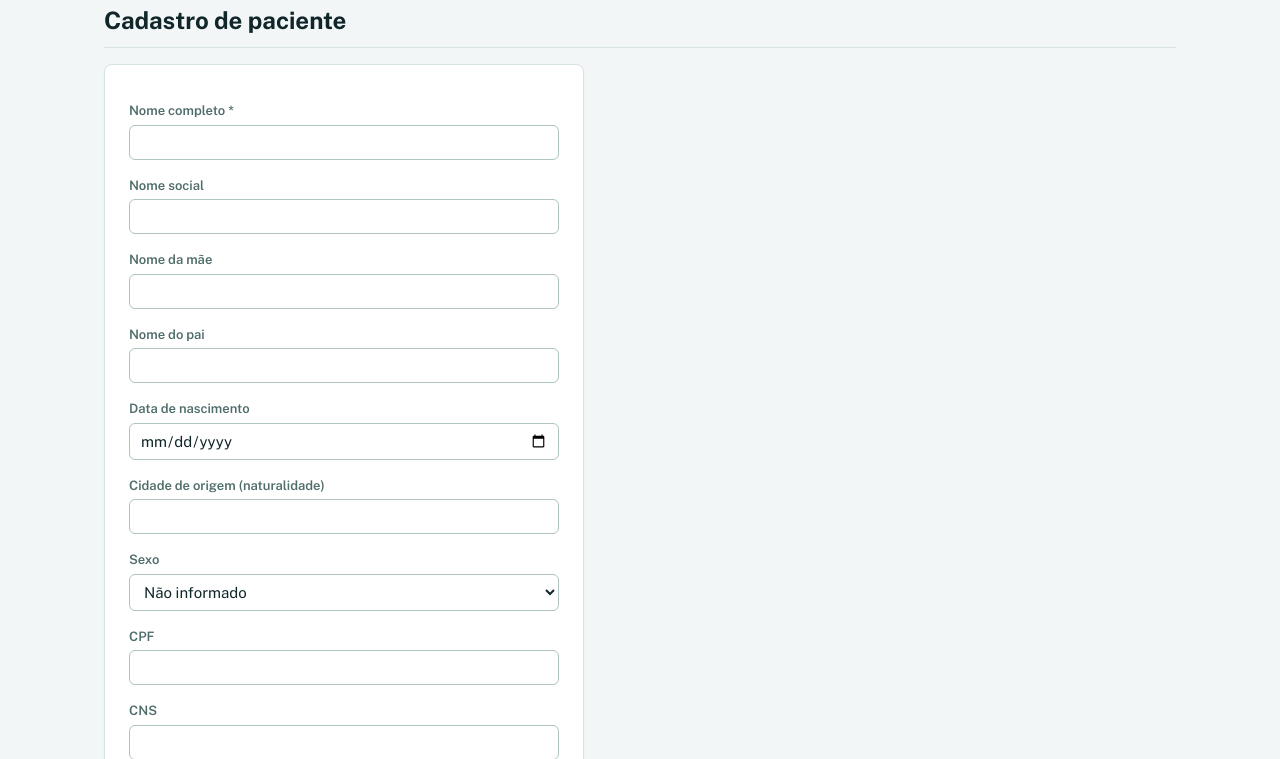
Test: PatientRegisterPage › 5. exibe erro de CPF inválido retornado pela API
Type "Maria Souza" into the field labelled "Nome completo *" at x=344, y=142, box [129,124,559,160]
(page scrolled)
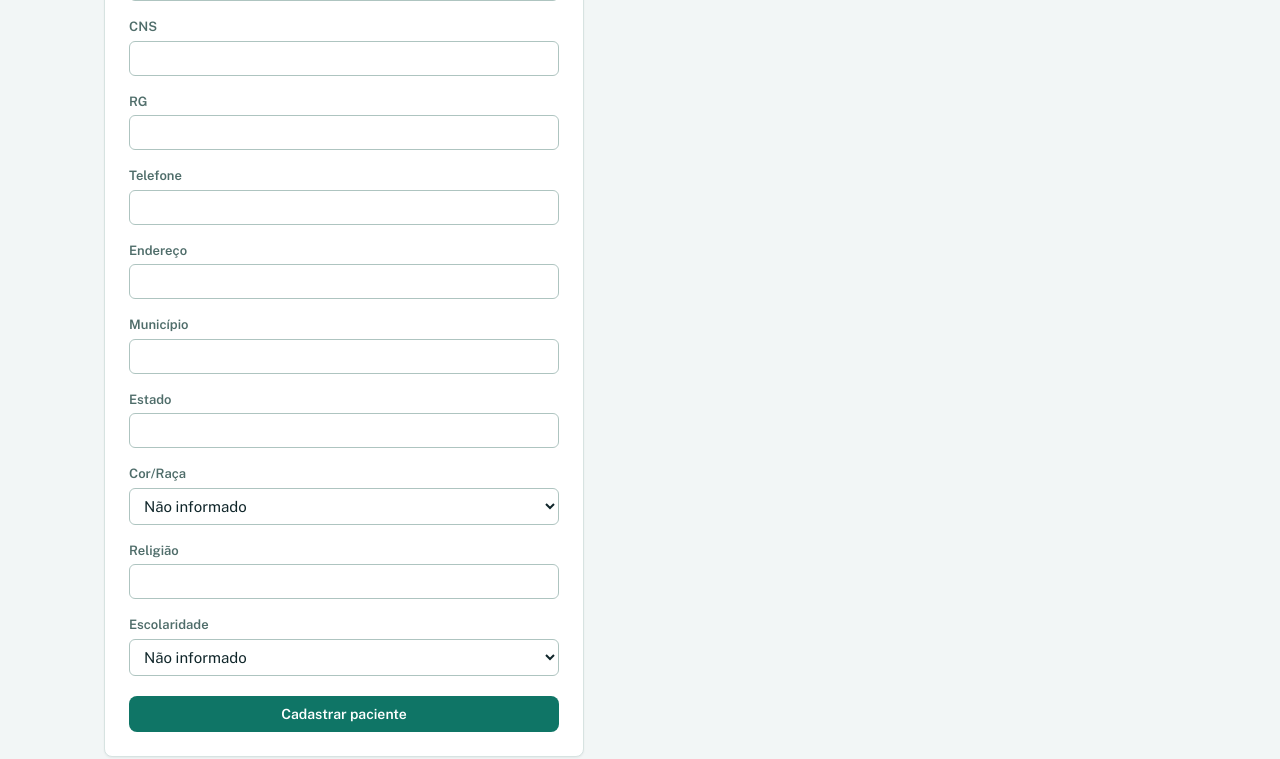
Click the button "Cadastrar paciente" at x=344, y=714, box [129,696,559,732]
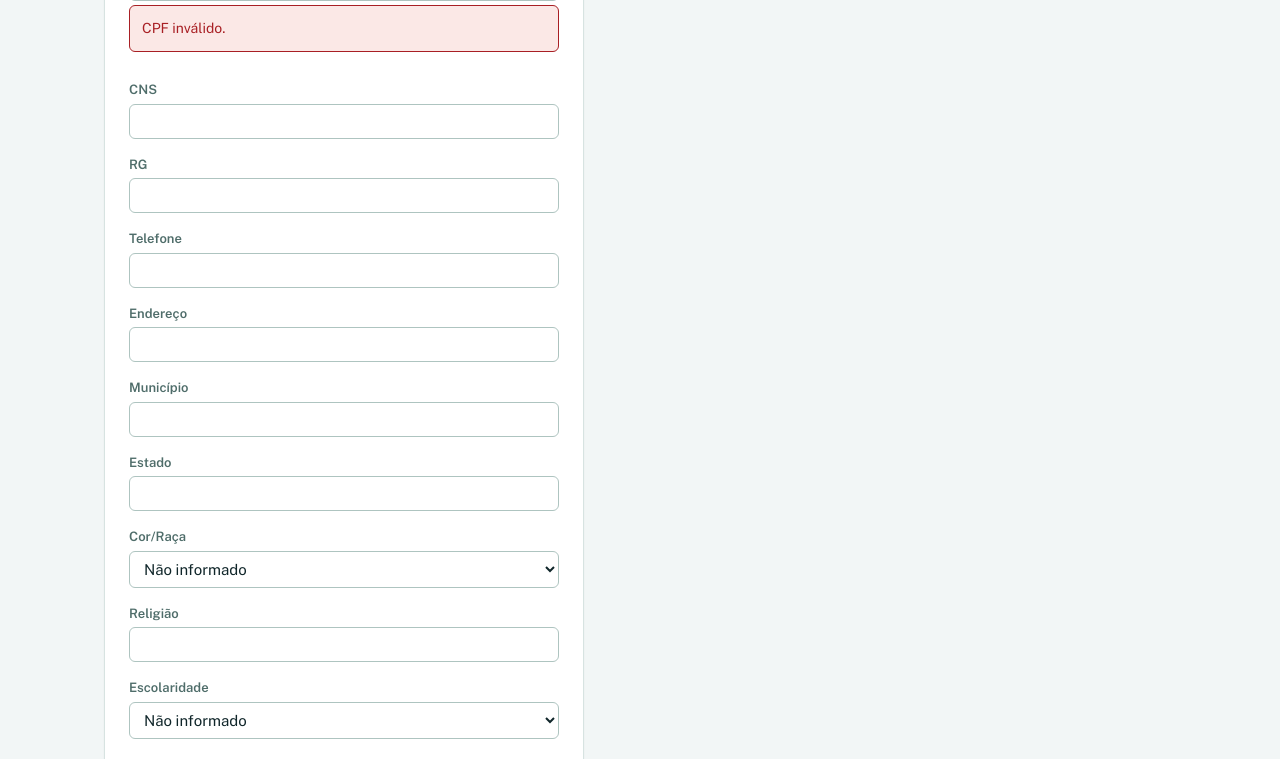
Check: the text "CPF inválido." is shown, box [129,5,559,52]
